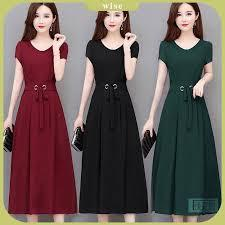dress: (0, 36, 83, 218), (147, 33, 225, 220), (76, 35, 153, 222)
